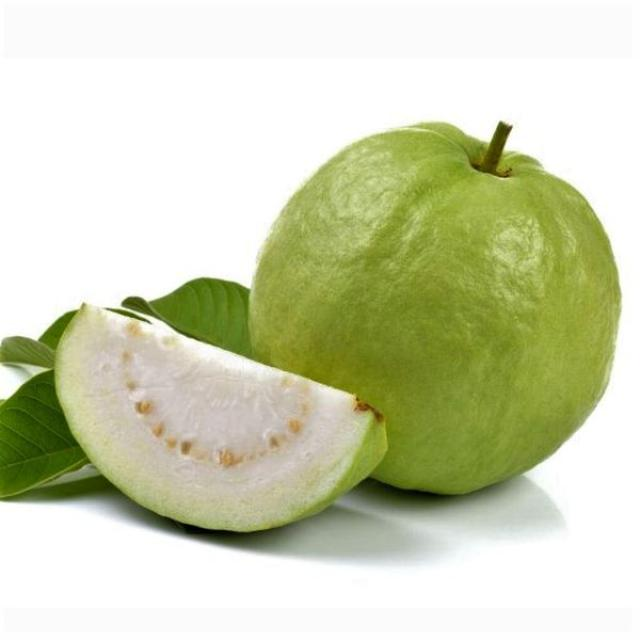oi: (53, 304, 384, 531)
